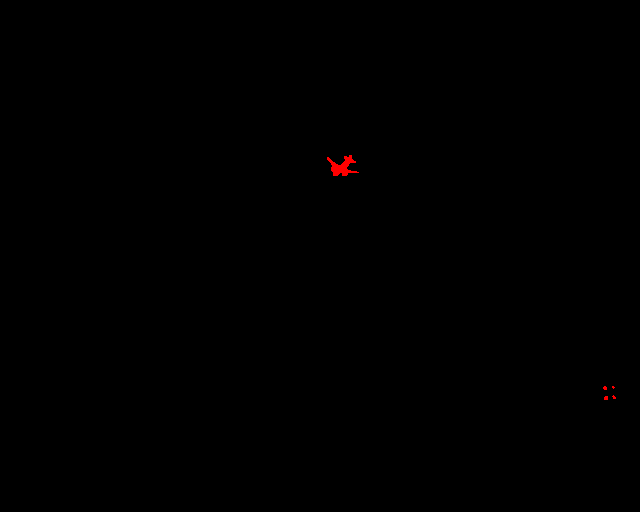Target: (327, 155, 359, 176), (603, 386, 607, 390), (612, 395, 616, 399), (604, 396, 608, 400), (612, 386, 615, 389)
